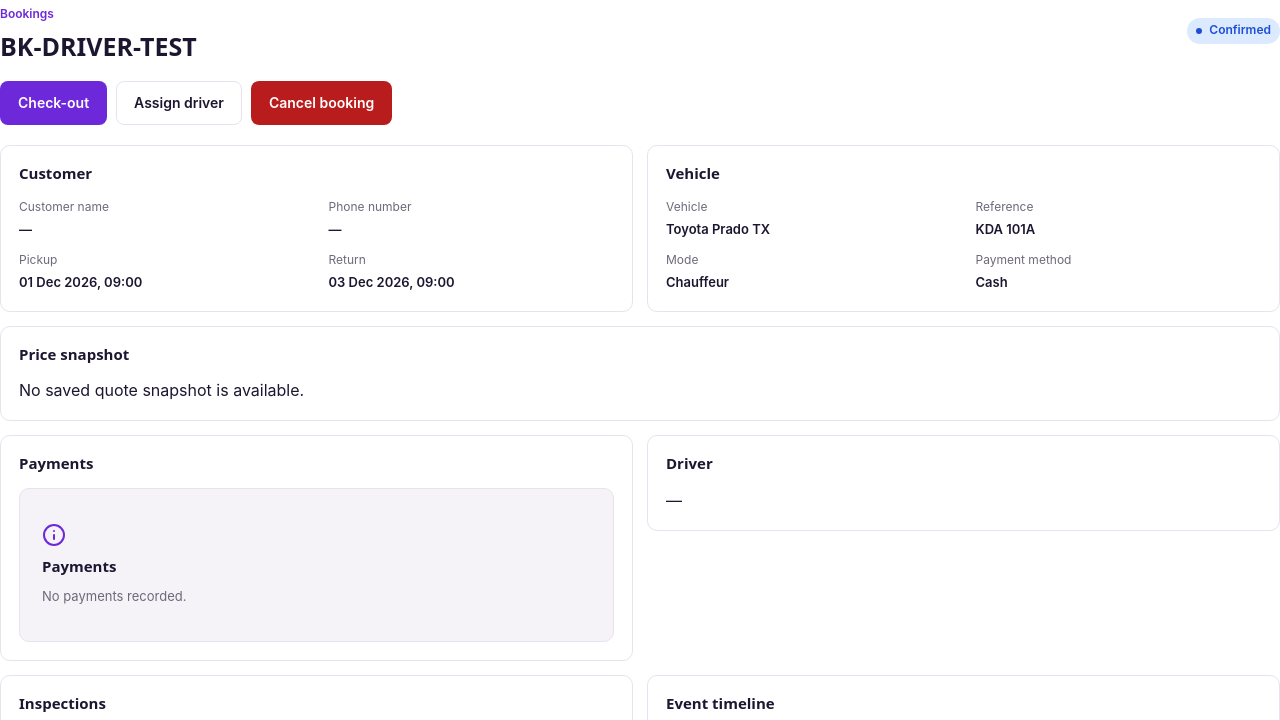
booking driver assignment › never offers an expired driver and explains a 409 assignment race
The image size is (1280, 720).
Click the button "Assign driver": (179, 103) [116, 81, 242, 125]
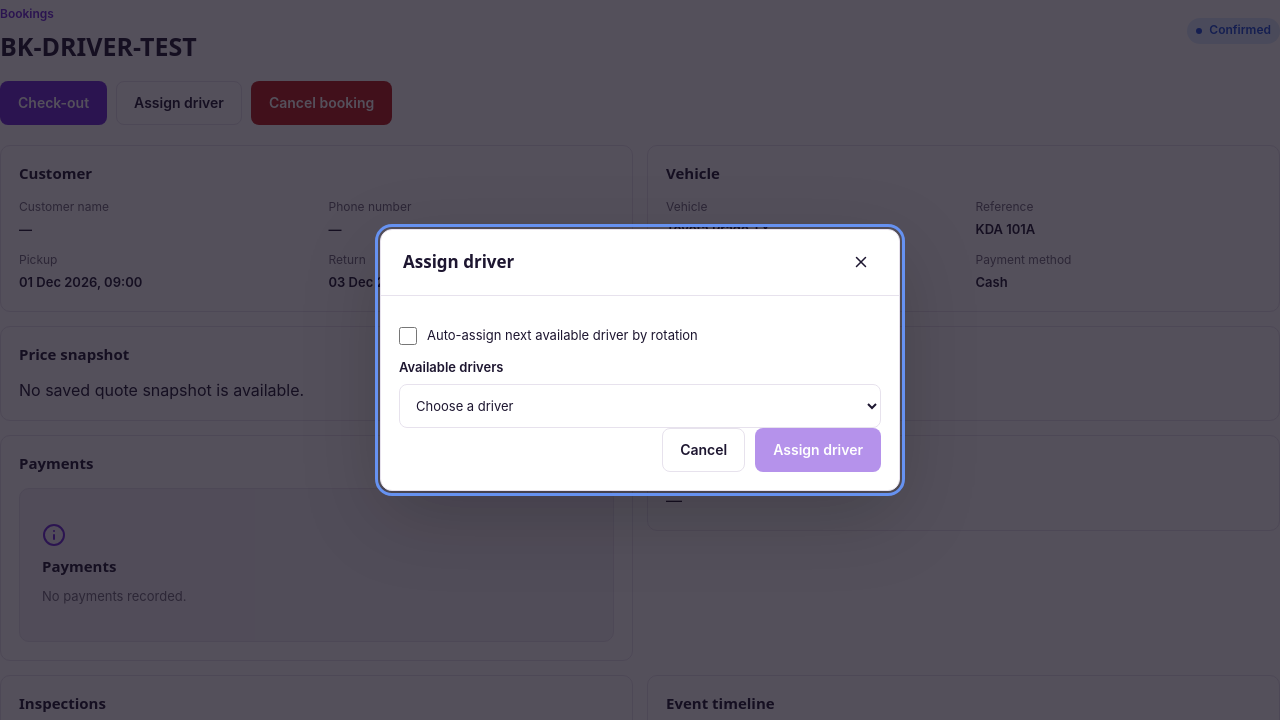
Select "Valid Driver · B · 4.8 / 5" in the dropdown labelled "Available drivers": (640, 406) [399, 384, 881, 428]
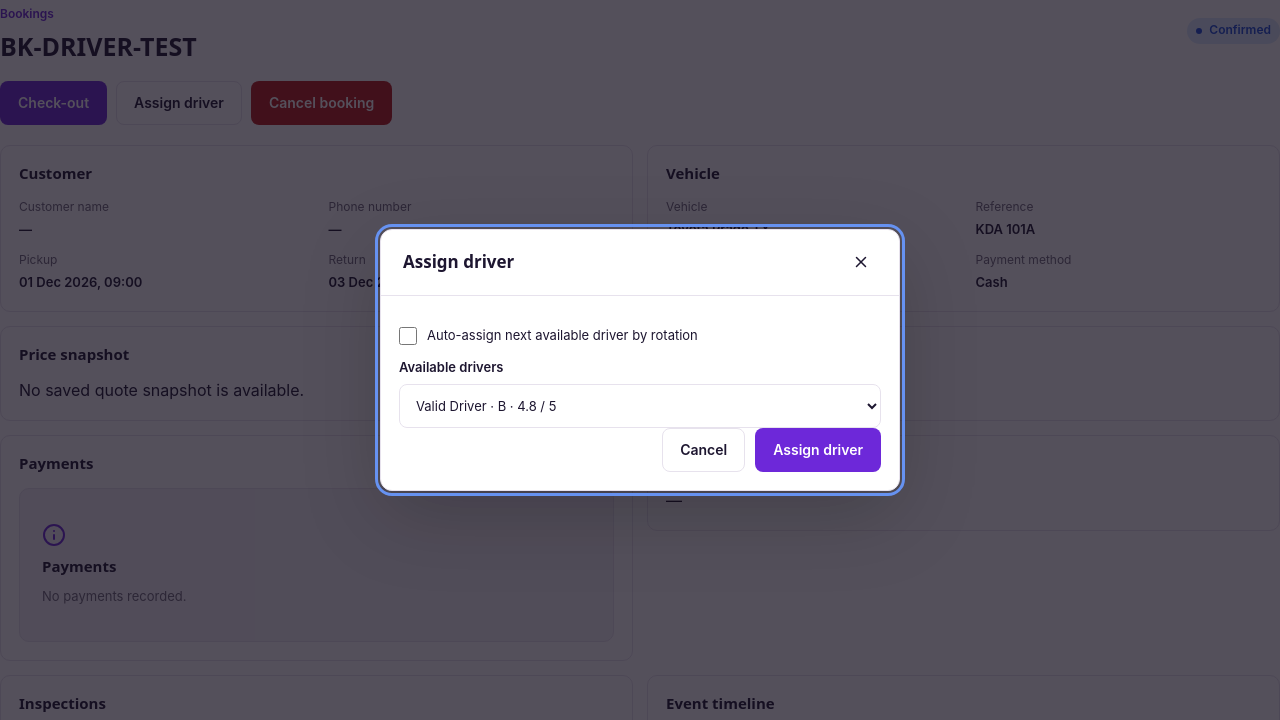
Click the button "Assign driver": (818, 450) [755, 428, 881, 472]
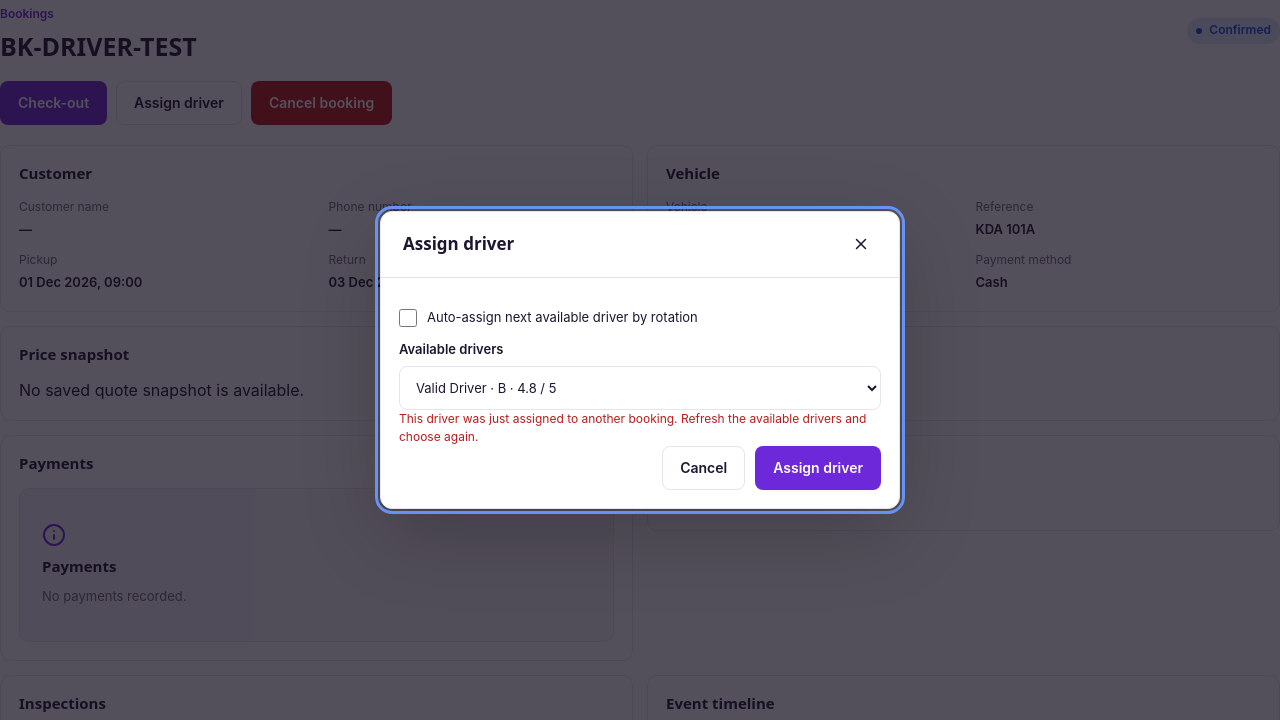
Expected: the message shows "just assigned to another booking", [399, 411, 866, 444]
